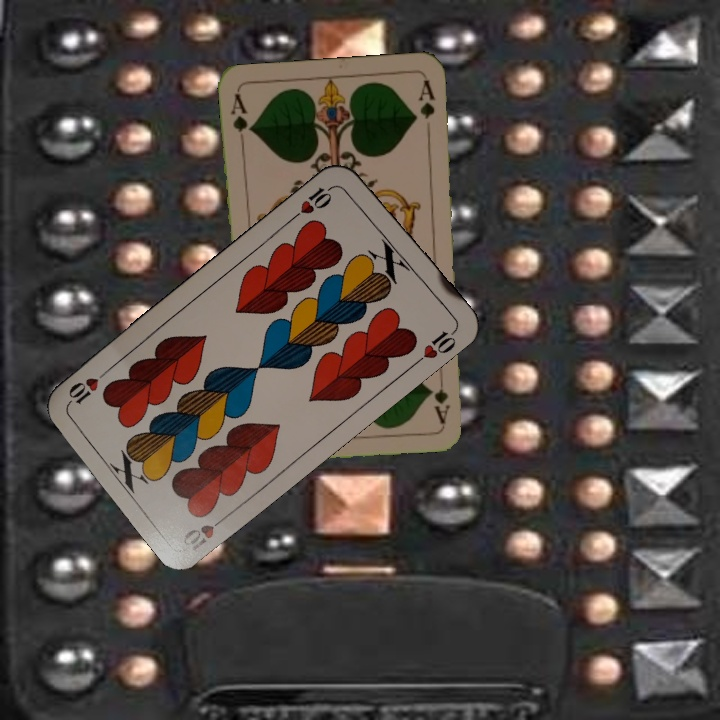GA: (226, 89, 255, 148), (432, 366, 452, 425)
H10: (179, 509, 232, 556), (289, 180, 340, 222)
